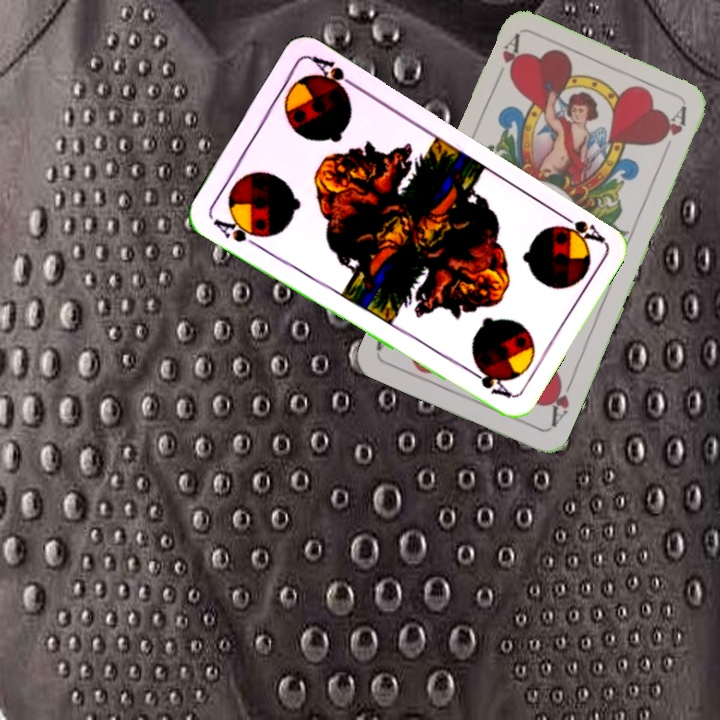HA: (490, 31, 526, 88), (544, 372, 576, 430)
SA: (208, 212, 267, 251), (553, 207, 607, 245)
